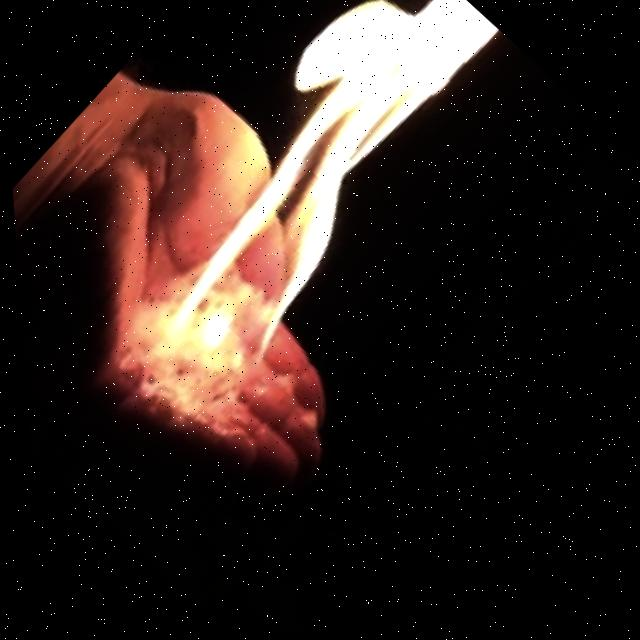Fire: (47, 0, 562, 437)
